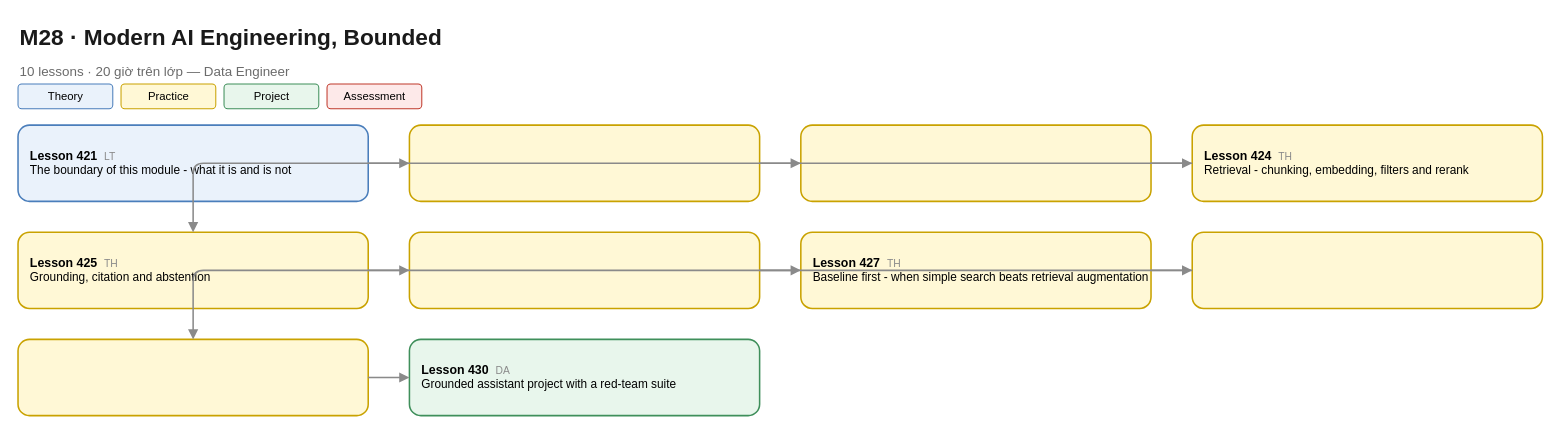
Image size: 1561x434. Some labels were removed from this diagram. The shapes that lost their labels are listed below. From the top down, each one's centre as x and y in pixels, then its label:
At (584,163): "Lesson 422 TH AI-assisted engineering with verification".
At (975,163): "Lesson 423 TH The LLM API contract - structured output, tools, budgets".
At (584,270): "Lesson 426 TH The evaluation blueprint - five layers".
At (1367,270): "Lesson 428 TH Prompt injection, tool permission and tenant isolation".
At (193,377): "Lesson 429 TH Serving - latency, cost, fallback and version lineage".
